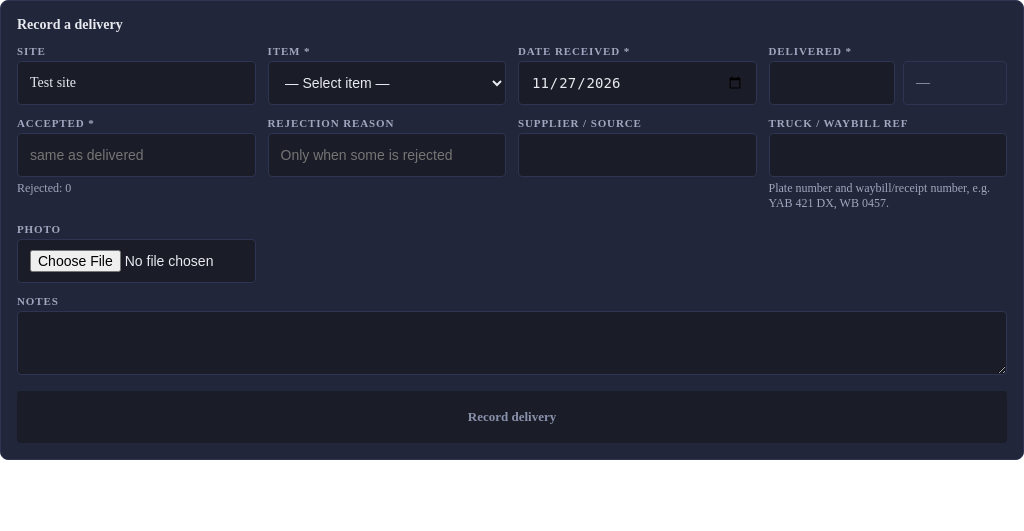
Test: hides the picker for client-owned material and omits the link
Select "Client cement (bags) · Client-owned" in the dropdown labelled "Item *": (387, 83) left=268, top=61, right=506, bottom=105
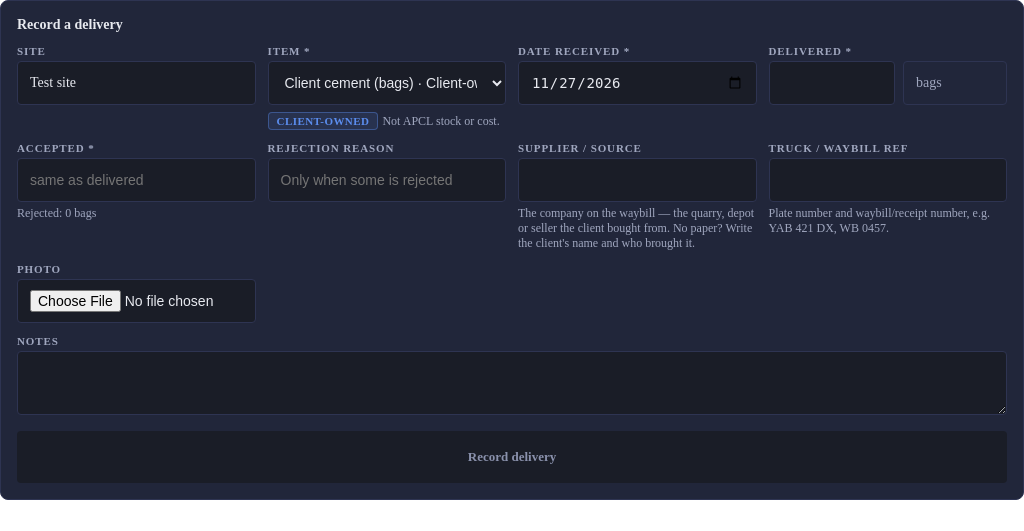
In the number field labelled "Delivered *": (832, 83) left=768, top=61, right=895, bottom=105, type "10"
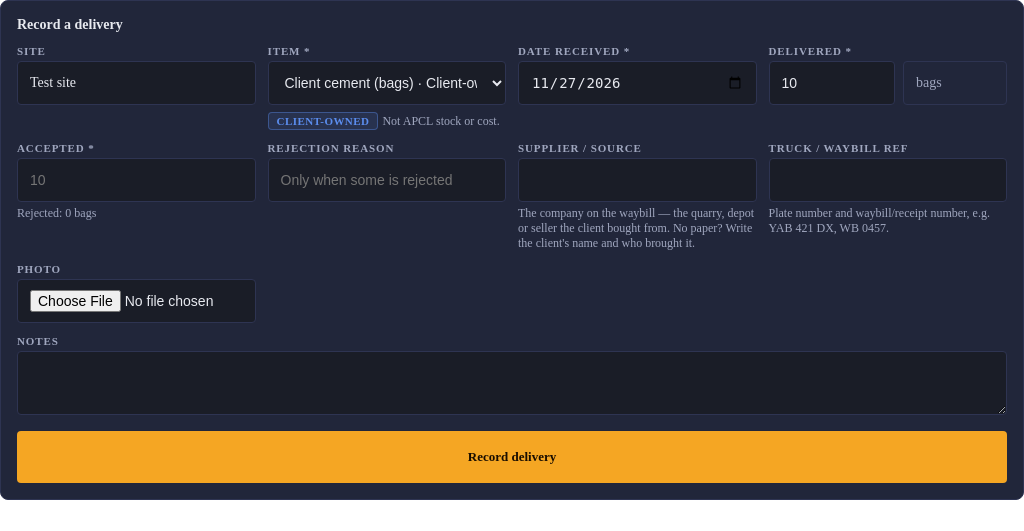
Click the button "Record delivery": (512, 457) left=17, top=431, right=1007, bottom=483
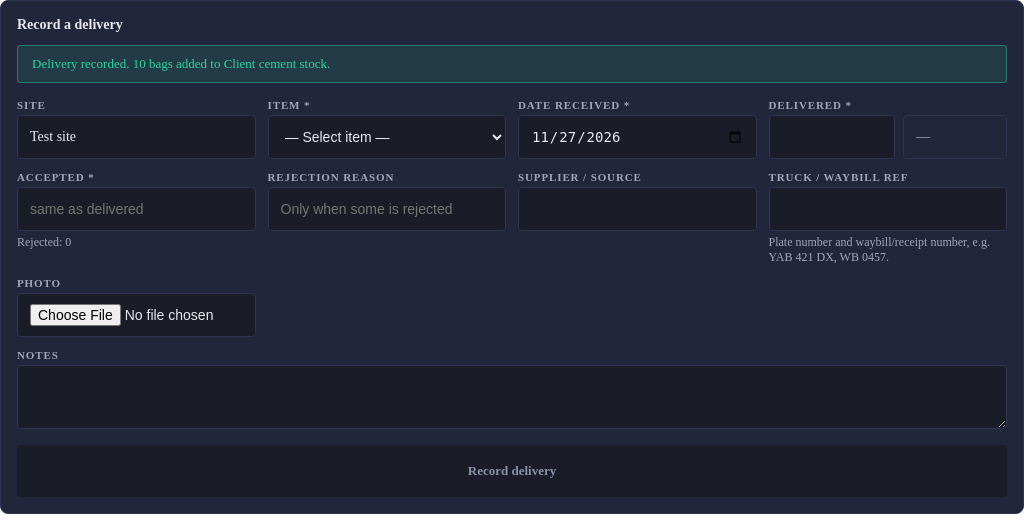
Expected: the text "Delivery recorded. 10 bags added to Client cement stock." is shown, left=17, top=45, right=1007, bottom=83
